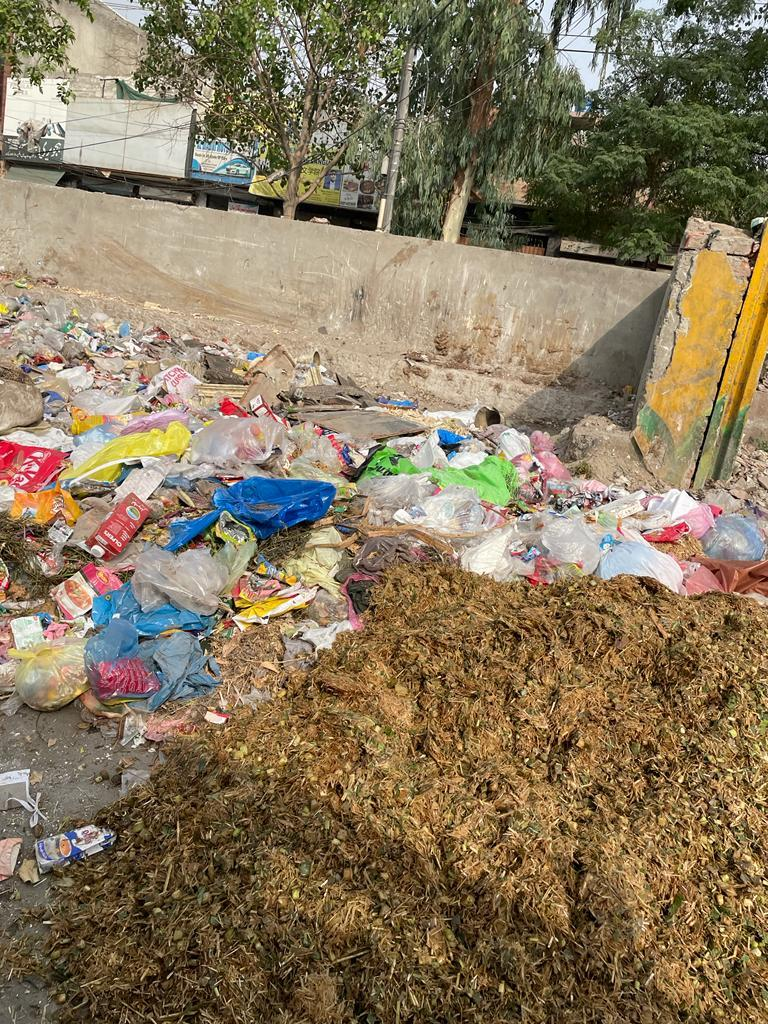garbage: (0, 278, 758, 721)
